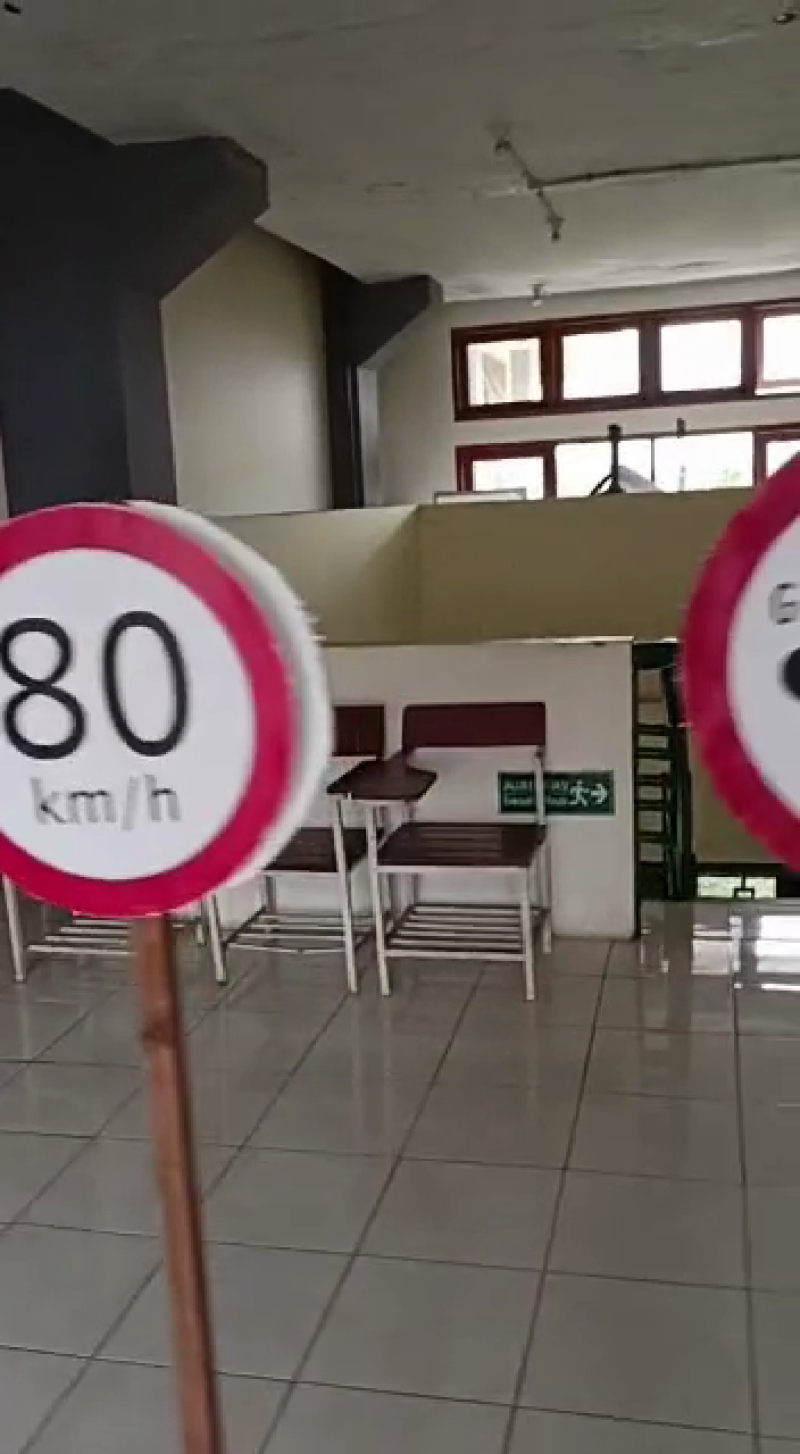batas maksimal 80kmperjam: (1, 499, 329, 941)
